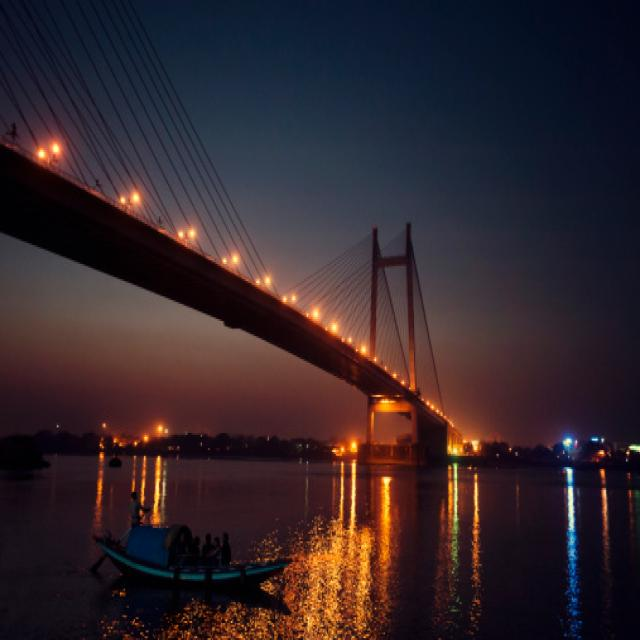Boat: (75, 502, 318, 631)
